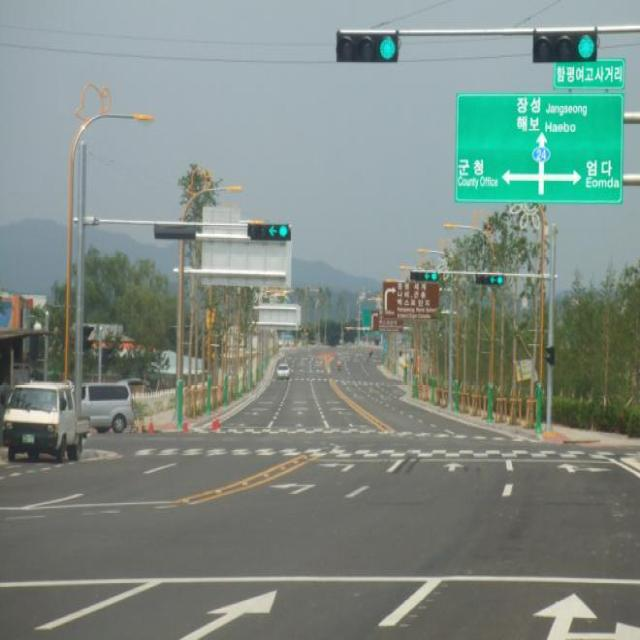Green Light: (377, 31, 398, 61), (578, 30, 594, 60), (279, 222, 290, 241), (497, 274, 504, 286), (432, 271, 438, 283)
